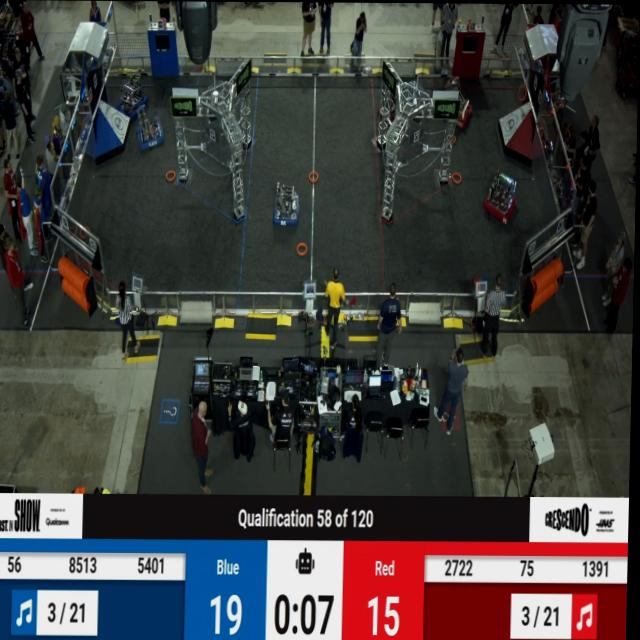Robot: (438, 65, 477, 140), (482, 168, 519, 222), (139, 83, 168, 151), (272, 177, 302, 229), (120, 70, 147, 119)
